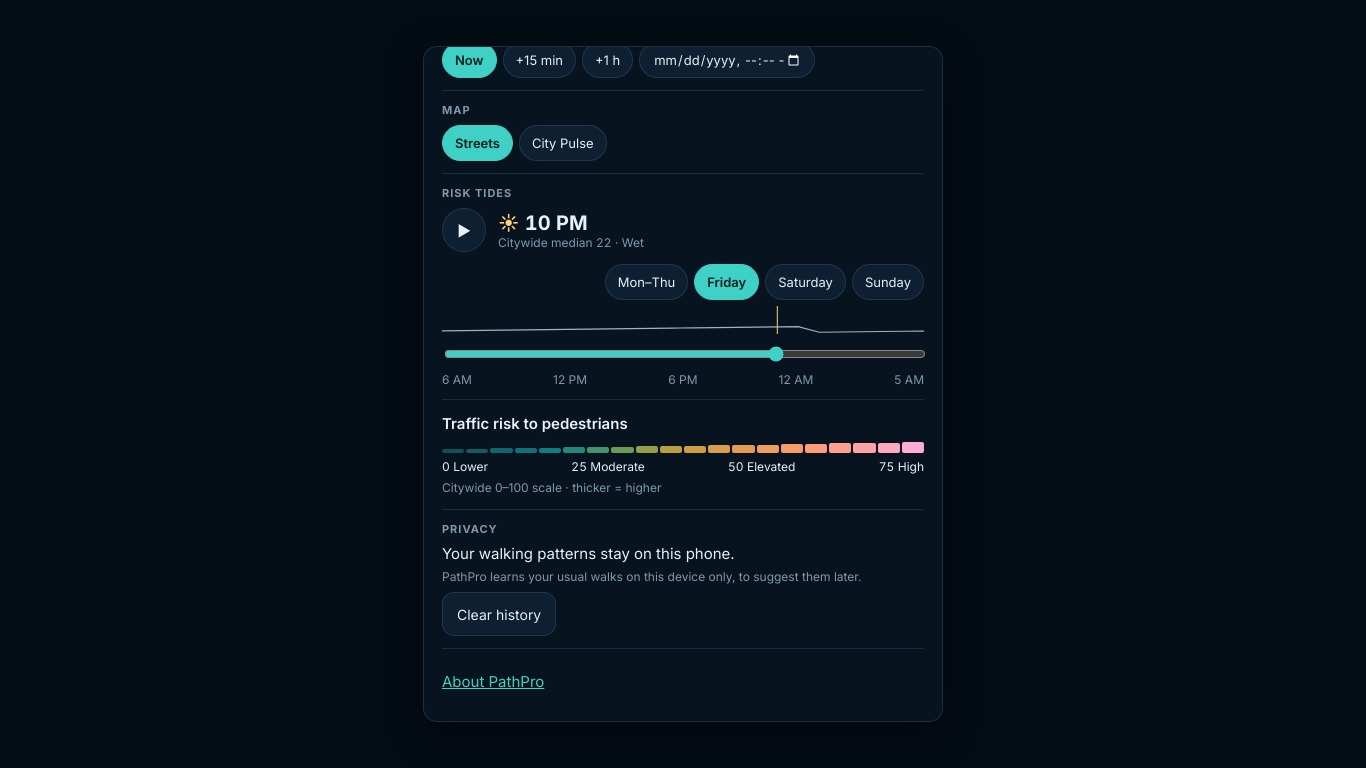
Scenario: OptionsSheet › keeps walking patterns on the phone and clears them on request
(page scrolled)
Expected: the text "Your walking patterns stay on this phone." is shown, x1=442 y1=544 x2=735 y2=563
Click the button "Clear history" at (499,614), box x1=442 y1=592 x2=556 y2=636
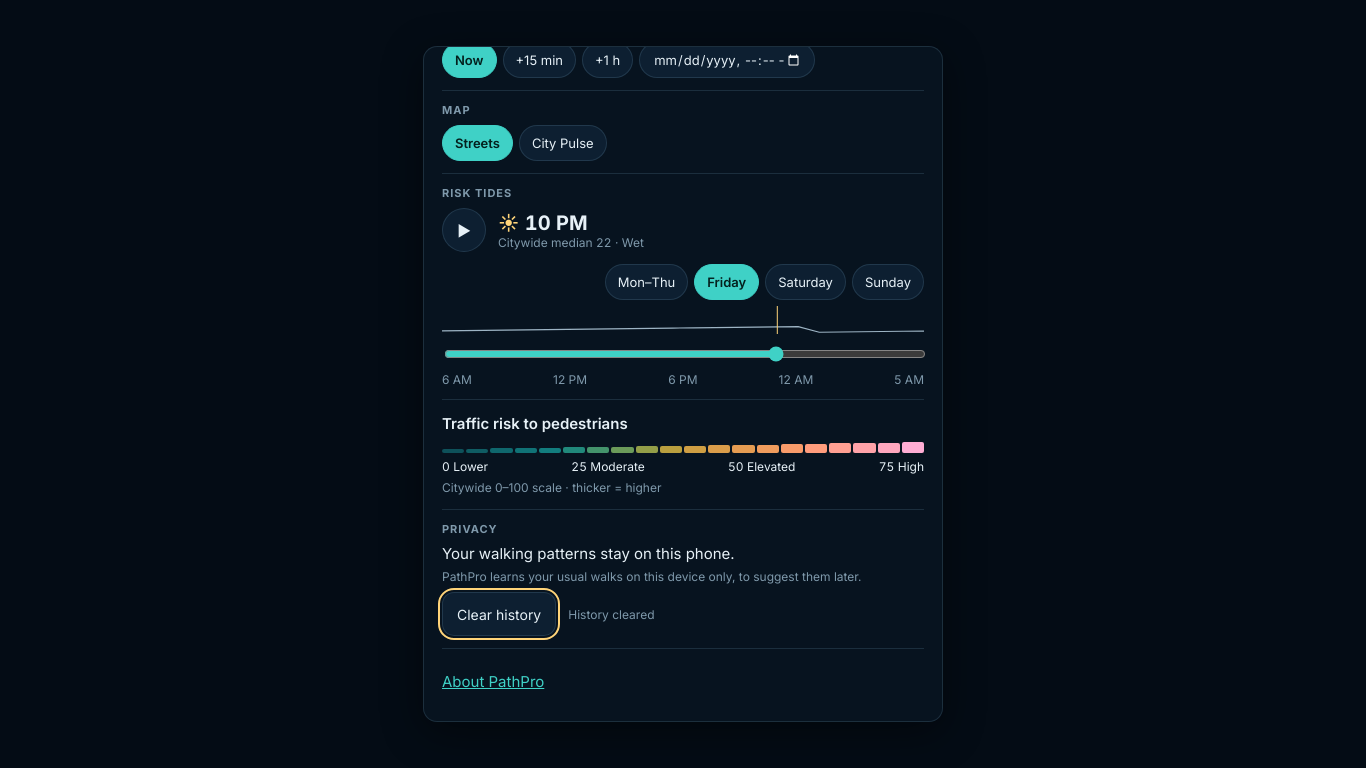
Now the message reads "History cleared", box x1=568 y1=607 x2=655 y2=622
